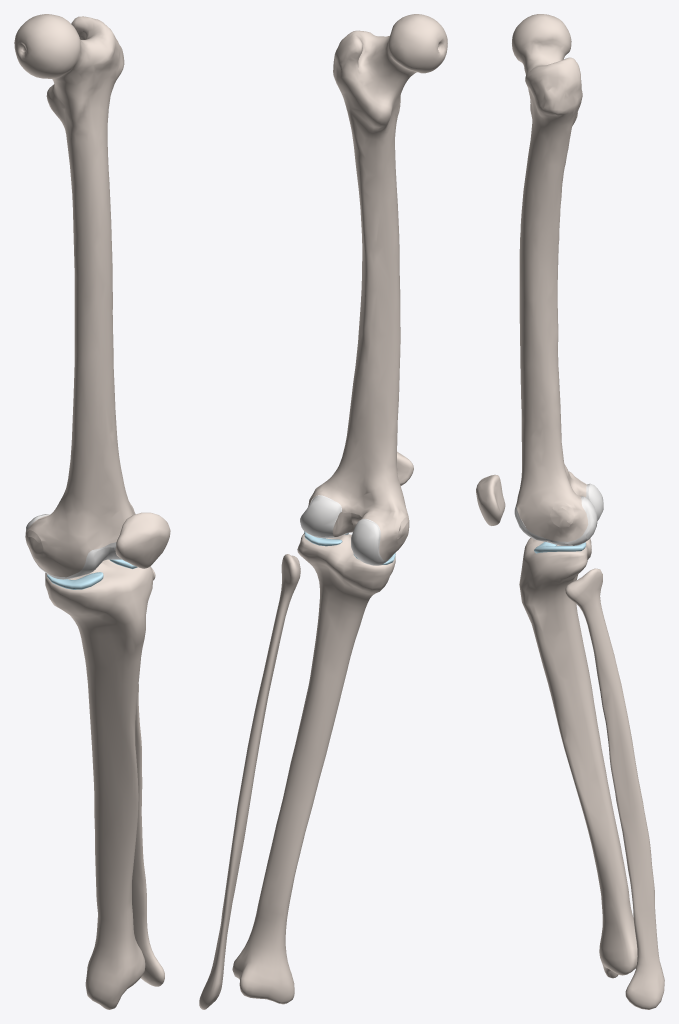
File: hra-knee-joint.glb
3 renders of one model, left to right at view 1: azimuth 30°, elevation 25°; view 2: azimuth 150°, elevation 25°; view 3: azimuth 270°, elevation 25°, orthographic. The views are drawn at different scales.
Visible parts, largest first — view 1: VH_M_fibula_L, VH_M_articular_cartilage_of_knee_L, VH_M_meniscus_L; view 2: VH_M_fibula_L, VH_M_articular_cartilage_of_knee_L; view 3: VH_M_fibula_L, VH_M_articular_cartilage_of_knee_L.
Part boxes in pixels (x1,y1,x2,y2): VH_M_fibula_L: (14, 14, 170, 1009); VH_M_articular_cartilage_of_knee_L: (25, 514, 121, 579); VH_M_meniscus_L: (47, 559, 137, 589); VH_M_fibula_L: (199, 14, 447, 1009); VH_M_articular_cartilage_of_knee_L: (300, 495, 388, 565); VH_M_fibula_L: (476, 14, 664, 1009); VH_M_articular_cartilage_of_knee_L: (514, 483, 603, 545).
Bounding box in the file's own units: 0.1734 × 0.8875 × 0.1646.
